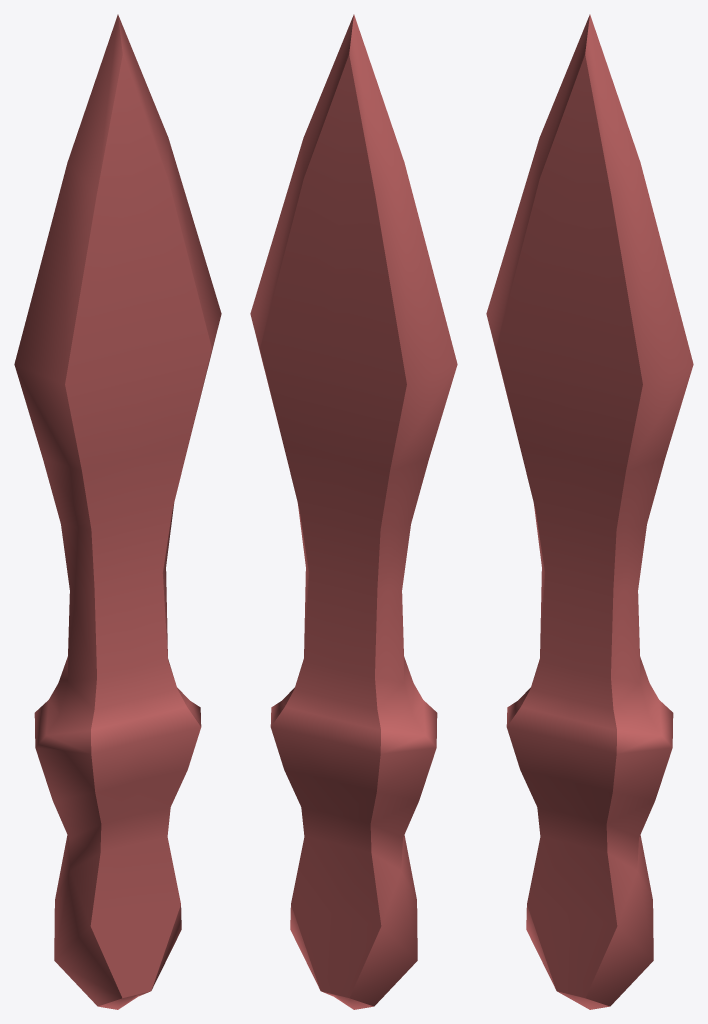
Rendered from blade1.fbx.
The picture shows the model from 3 angles, left to right: view 1: azimuth 30°, elevation 25°; view 2: azimuth 150°, elevation 25°; view 3: azimuth 330°, elevation 25°; orthographic projection.
Visible parts, largest first — view 1: blade_lo; view 2: blade_lo; view 3: blade_lo.
Part boxes in pixels (x1,y1,x2,y2): blade_lo: (14, 14, 221, 1009); blade_lo: (250, 14, 457, 1009); blade_lo: (486, 14, 693, 1009).
Size of the model in its own units: 0.158 by 0.7257 by 0.0747.
